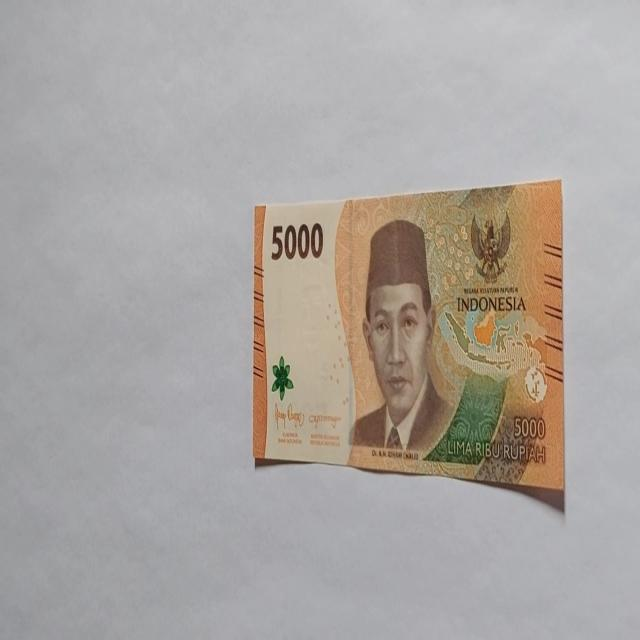lima ribu rupiah: (252, 178, 564, 508), (348, 217, 453, 455)
